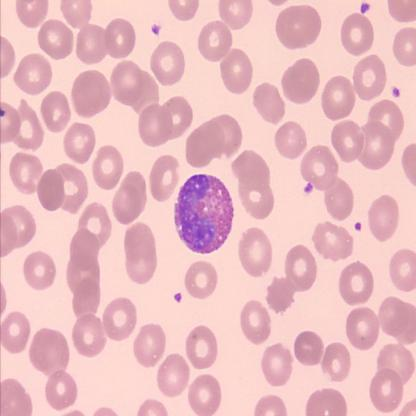Eosinophil: (175, 172, 235, 256)
